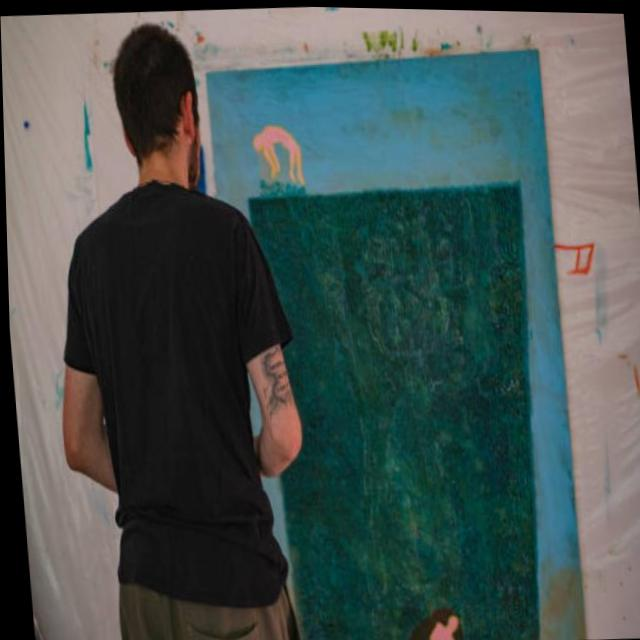no helmet: (98, 16, 226, 212)
